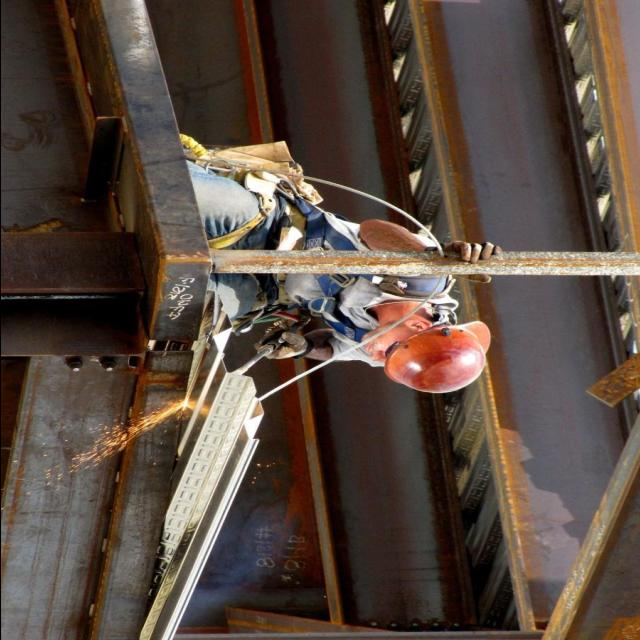helmet: (388, 315, 493, 404)
